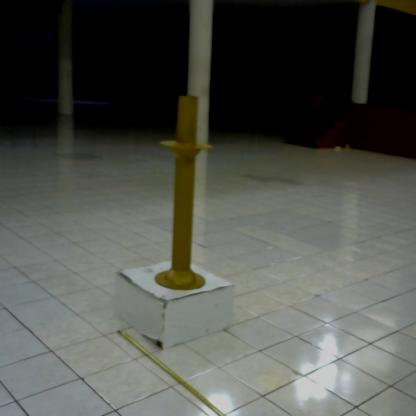pole: (155, 93, 217, 293)
